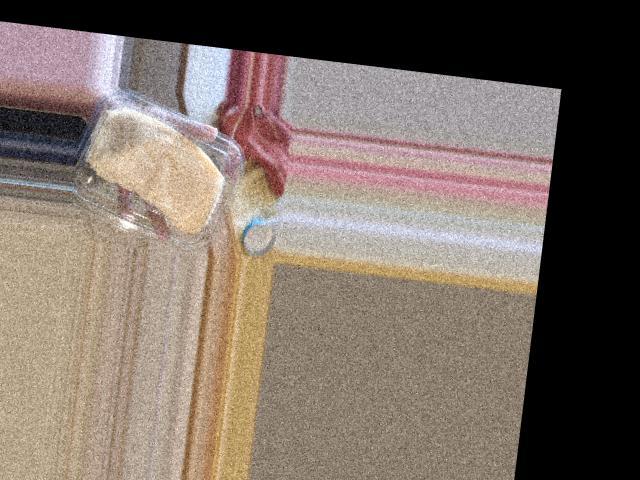cheese: (66, 93, 253, 253)
